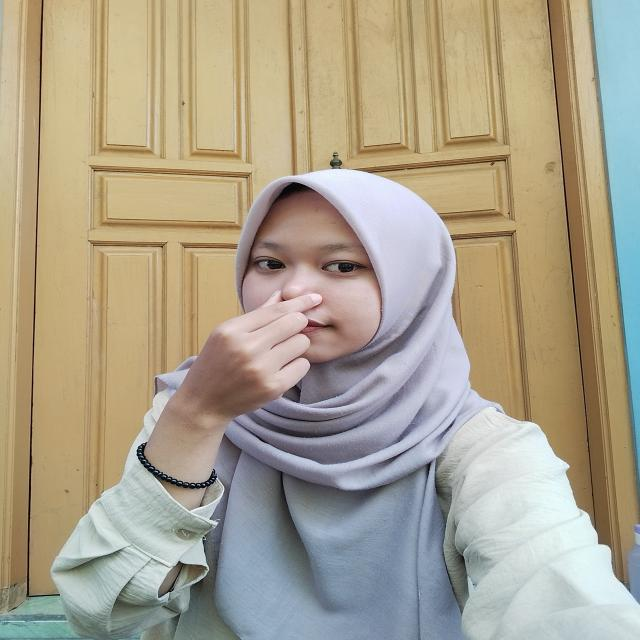bau: (164, 280, 327, 422)
